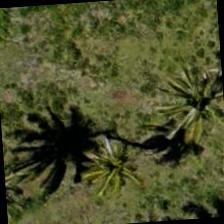Kelapa_Sawit: (67, 128, 164, 223), (140, 60, 223, 157)
